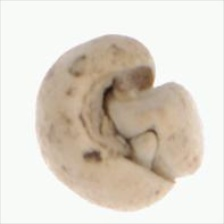L3: (85, 64, 200, 184)
L4: (36, 33, 201, 212)
